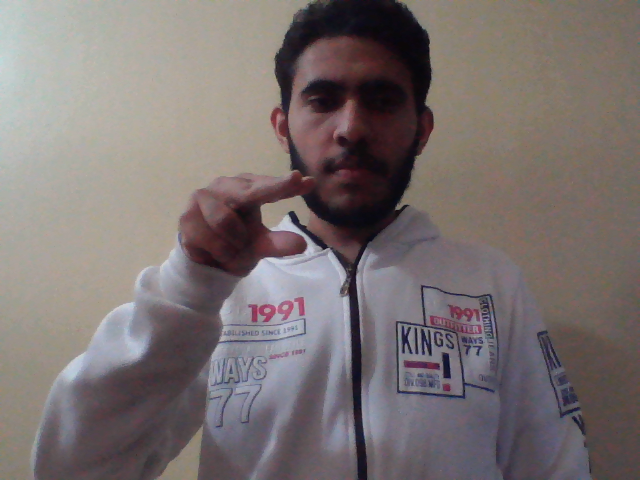no: (166, 169, 316, 284)
